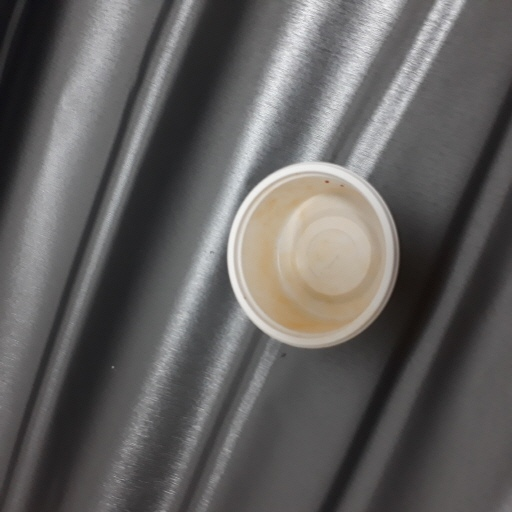Plastic_5: (221, 160, 403, 353)
